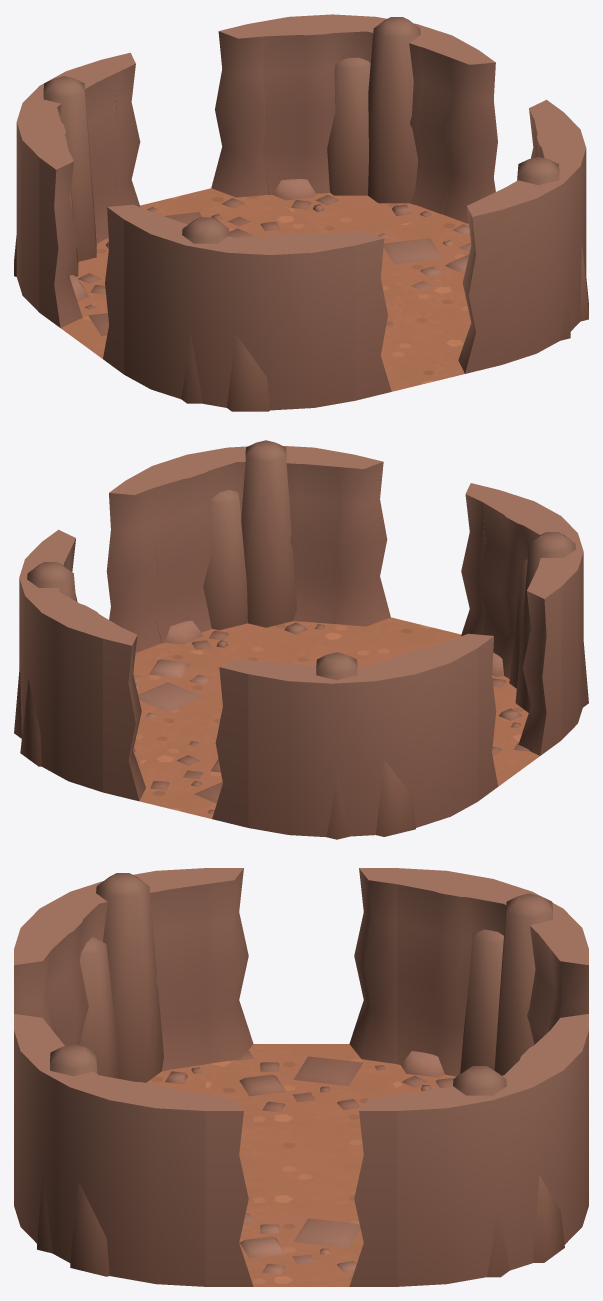
The model's file is room-small.obj.
3 views of the same model, one above another, from view 1: azimuth 30°, elevation 25°; view 2: azimuth 150°, elevation 25°; view 3: azimuth 270°, elevation 25° (orthographic). The views are drawn at different scales.
Parts seen in each view (by area): view 1: room-small; view 2: room-small; view 3: room-small.
Part boxes in pixels (x1,y1,x2,y2): room-small: (14, 14, 588, 411); room-small: (14, 440, 588, 839); room-small: (14, 868, 588, 1286).
Bounding box in the file's own units: 12 × 4.4 × 12.
Materials: 1 (1 with a texture image).
